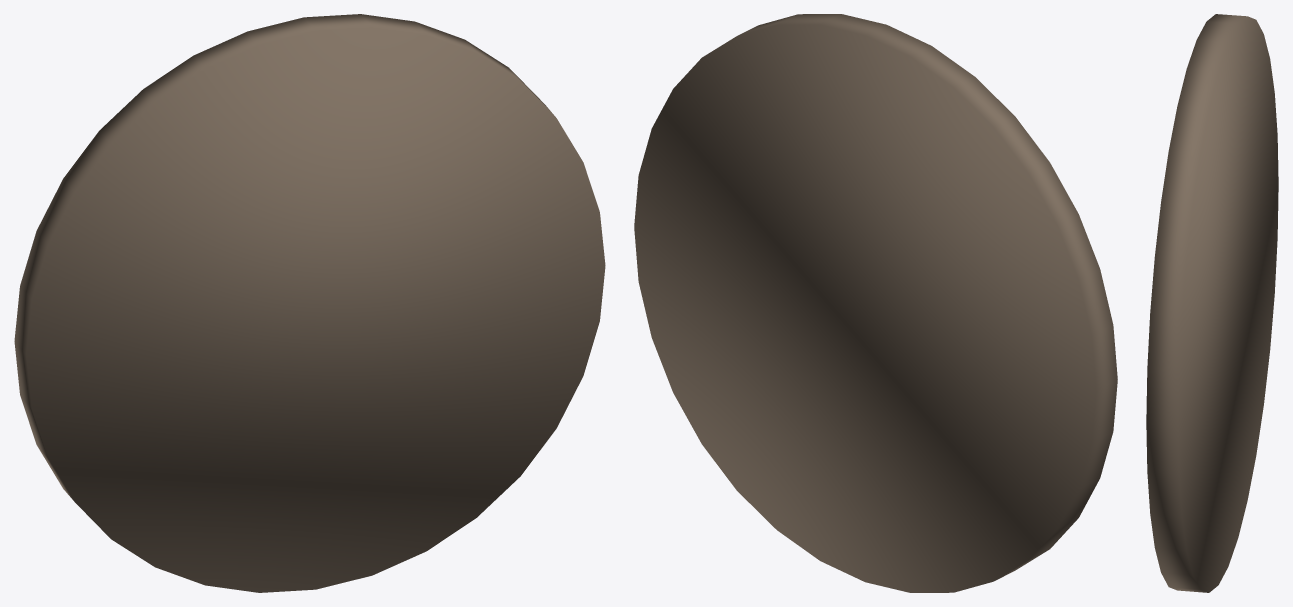
The model's file is xion_shield_wood_round_back.dae.
3 renders of one model, left to right at view 1: azimuth 30°, elevation 25°; view 2: azimuth 150°, elevation 25°; view 3: azimuth 270°, elevation 25°, orthographic. The views are drawn at different scales.
Parts seen in each view (by area): view 1: Plano_001_001_002; view 2: Plano_001_001_002; view 3: Plano_001_001_002.
Part boxes in pixels (box(x1,y1,x2,y2)): Plano_001_001_002: box(14, 14, 605, 592); Plano_001_001_002: box(634, 14, 1117, 592); Plano_001_001_002: box(1146, 14, 1278, 592).
Bounding box in the file's own units: 1.09 × 0.2517 × 1.1.
